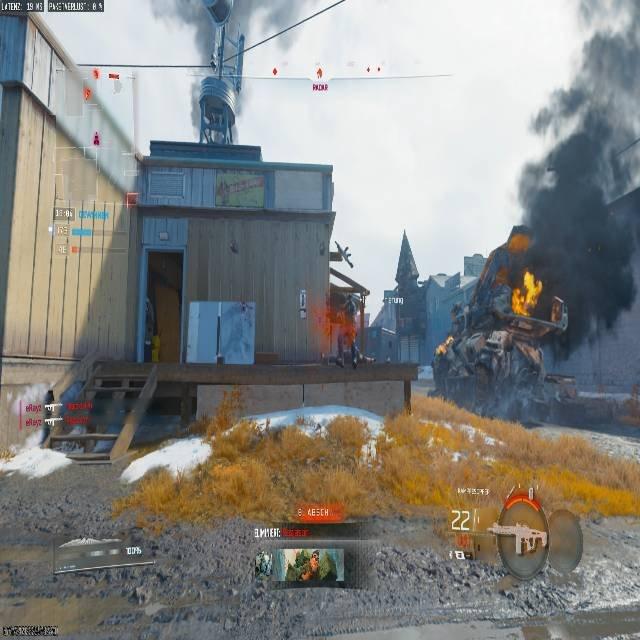player: (441, 264, 569, 429)
